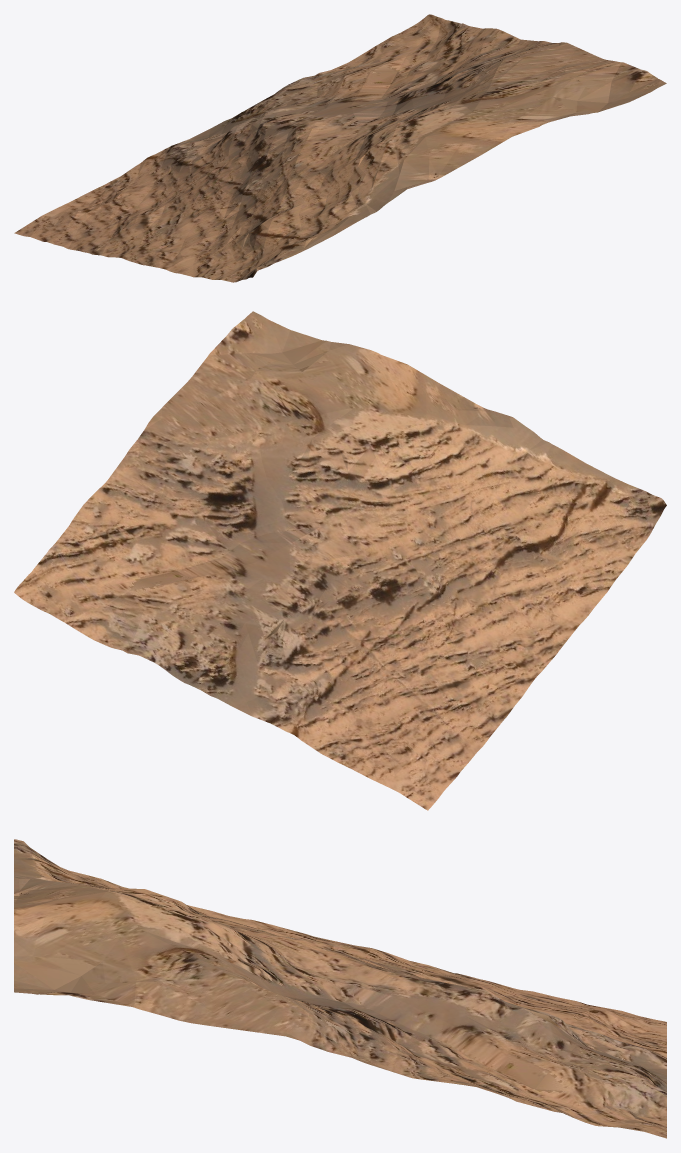
The picture shows the model from 3 angles, top to bottom: view 1: azimuth 30°, elevation 25°; view 2: azimuth 150°, elevation 25°; view 3: azimuth 270°, elevation 25°; orthographic projection. The views are drawn at different scales.
Bounding box in the file's own units: 1.04 × 0.5391 × 1.04.
Materials: 2 (2 with a texture image).
